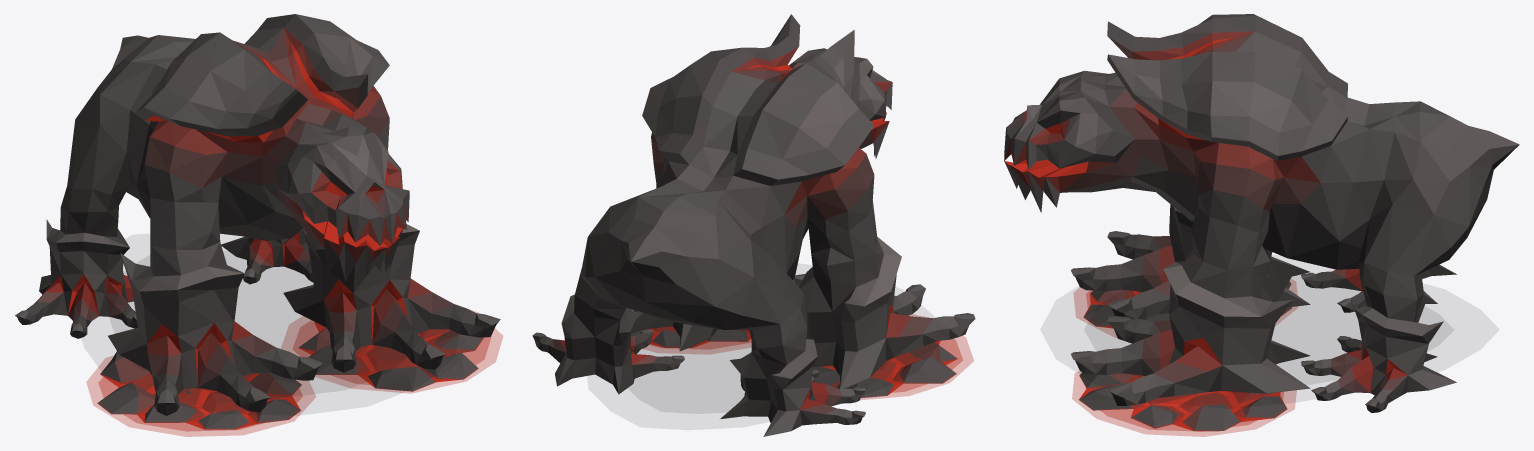
The picture shows the model from 3 angles, left to right: view 1: azimuth 30°, elevation 25°; view 2: azimuth 150°, elevation 25°; view 3: azimuth 270°, elevation 25°; orthographic projection. The views are drawn at different scales.
Bounding box in the file's own units: 652 × 529 × 775.
Materials: 2 (2 with a texture image).
